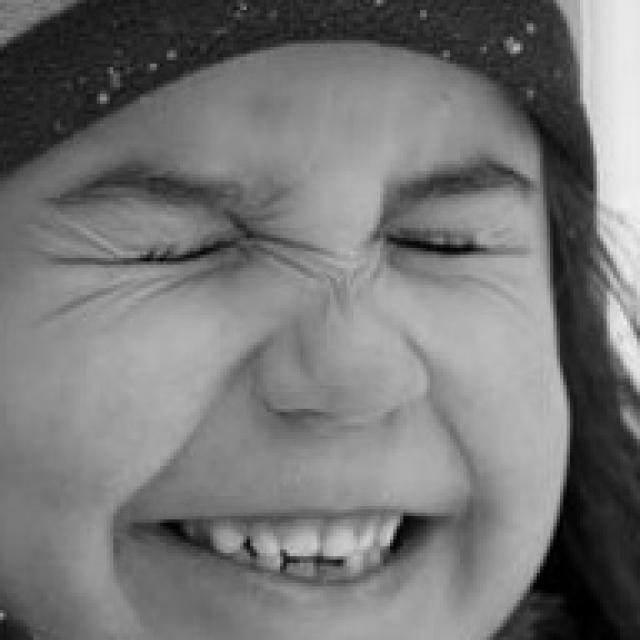real: (0, 47, 567, 640), (40, 192, 531, 309)
